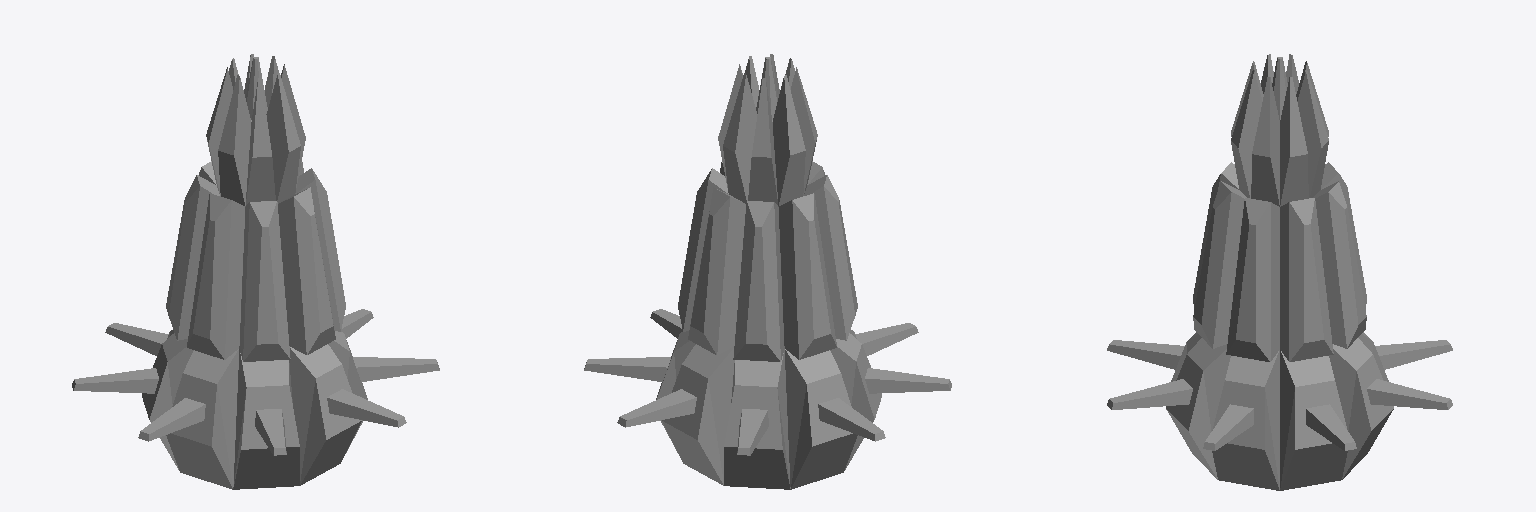
Rendered from AntennaPike.obj.
3 renders of one model, left to right at view 1: azimuth 30°, elevation 25°; view 2: azimuth 150°, elevation 25°; view 3: azimuth 270°, elevation 25°, orthographic.
Visible parts, largest first — view 1: Atenna_Top_Cylinder.005; view 2: Atenna_Top_Cylinder.005; view 3: Atenna_Top_Cylinder.005.
Part boxes in pixels (x1,y1,x2,y2): Atenna_Top_Cylinder.005: (72, 54, 439, 489); Atenna_Top_Cylinder.005: (584, 54, 951, 489); Atenna_Top_Cylinder.005: (1107, 54, 1452, 490).
Bounding box in the file's own units: 0.793 × 1 × 0.793.